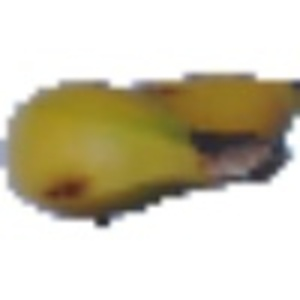banana: (3, 66, 292, 219)
